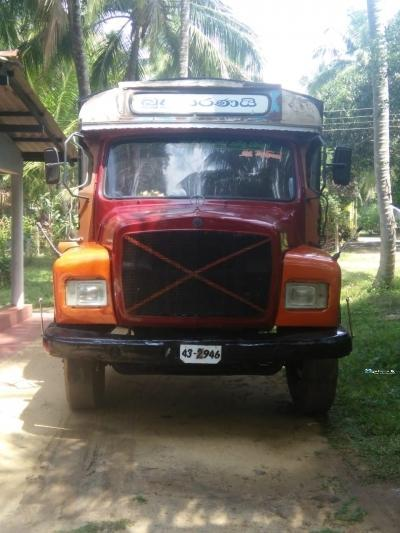truck: (42, 76, 354, 413)
